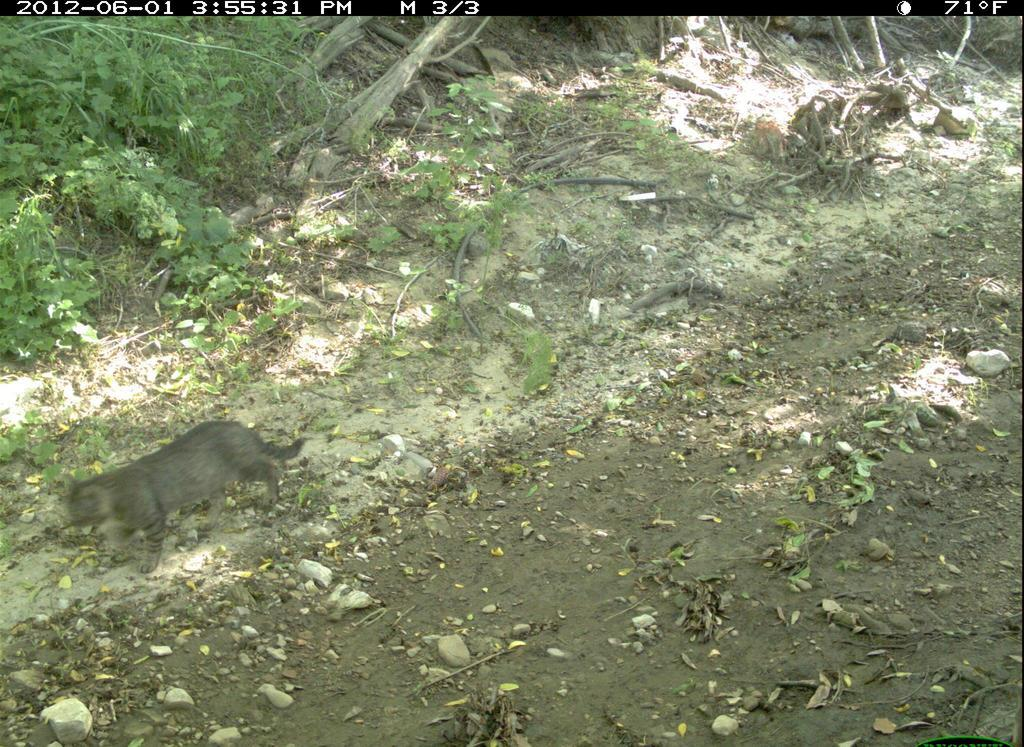cat: (59, 419, 310, 584)
